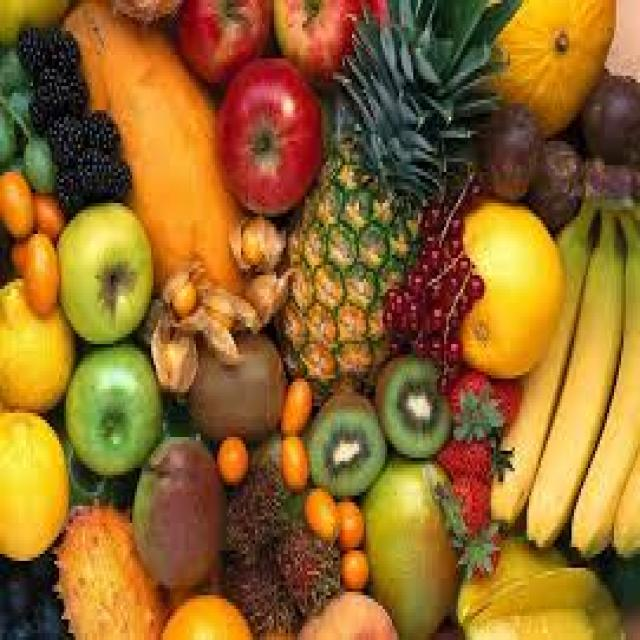biodegradable: (0, 0, 638, 637), (57, 0, 250, 313), (515, 162, 638, 544), (486, 158, 593, 530), (328, 0, 517, 203), (269, 145, 416, 396), (565, 162, 638, 568), (465, 0, 612, 134), (361, 451, 458, 637), (212, 52, 319, 207), (48, 503, 166, 637), (54, 196, 156, 341), (130, 433, 227, 585), (61, 334, 163, 475), (180, 327, 284, 437), (0, 406, 68, 561), (269, 0, 387, 89), (0, 275, 73, 406), (302, 385, 385, 499), (173, 0, 272, 86), (371, 348, 446, 458), (222, 547, 295, 637), (475, 100, 541, 196), (57, 423, 130, 509), (522, 134, 581, 234), (440, 361, 525, 430), (267, 523, 338, 602), (142, 293, 198, 393), (291, 589, 402, 637), (579, 73, 638, 159), (232, 461, 291, 533), (156, 595, 248, 637), (7, 231, 54, 310), (227, 206, 286, 265), (156, 561, 224, 612), (609, 444, 638, 554), (439, 471, 484, 537), (241, 265, 288, 327), (220, 489, 262, 558), (201, 282, 260, 330), (0, 0, 73, 38), (161, 258, 203, 320), (0, 165, 35, 237), (454, 523, 499, 578), (451, 389, 503, 433), (16, 124, 52, 186), (28, 179, 64, 234), (213, 430, 251, 482), (33, 585, 71, 637), (300, 482, 335, 537), (45, 107, 80, 162), (432, 482, 461, 547), (277, 375, 310, 430), (196, 313, 236, 355), (2, 564, 33, 616), (31, 66, 64, 114), (279, 434, 305, 492), (12, 24, 45, 69), (73, 145, 106, 189), (333, 496, 359, 551), (42, 24, 78, 62), (0, 96, 19, 162), (109, 0, 182, 17), (0, 48, 26, 93), (52, 162, 80, 203), (83, 107, 116, 141), (338, 547, 366, 585), (57, 69, 83, 107), (29, 547, 55, 585), (106, 151, 128, 193), (253, 434, 283, 461), (5, 86, 28, 117), (0, 615, 28, 636), (24, 93, 43, 120), (385, 337, 406, 361), (404, 306, 425, 327), (425, 303, 442, 327), (411, 337, 430, 358), (395, 289, 409, 317), (437, 365, 453, 389), (463, 272, 479, 296), (425, 279, 442, 299), (444, 337, 456, 365), (378, 307, 392, 331), (437, 241, 453, 261), (428, 244, 442, 265), (447, 299, 461, 320), (425, 200, 439, 220), (430, 224, 446, 241), (404, 265, 420, 282), (409, 283, 425, 300), (428, 337, 440, 358), (418, 224, 430, 244), (444, 272, 461, 286), (383, 289, 395, 306), (454, 252, 466, 269), (447, 214, 459, 231), (418, 258, 430, 272), (458, 289, 470, 303), (418, 213, 427, 227), (447, 234, 459, 244), (411, 244, 423, 251)
